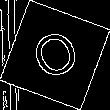O_SE: (24, 23, 86, 87)
